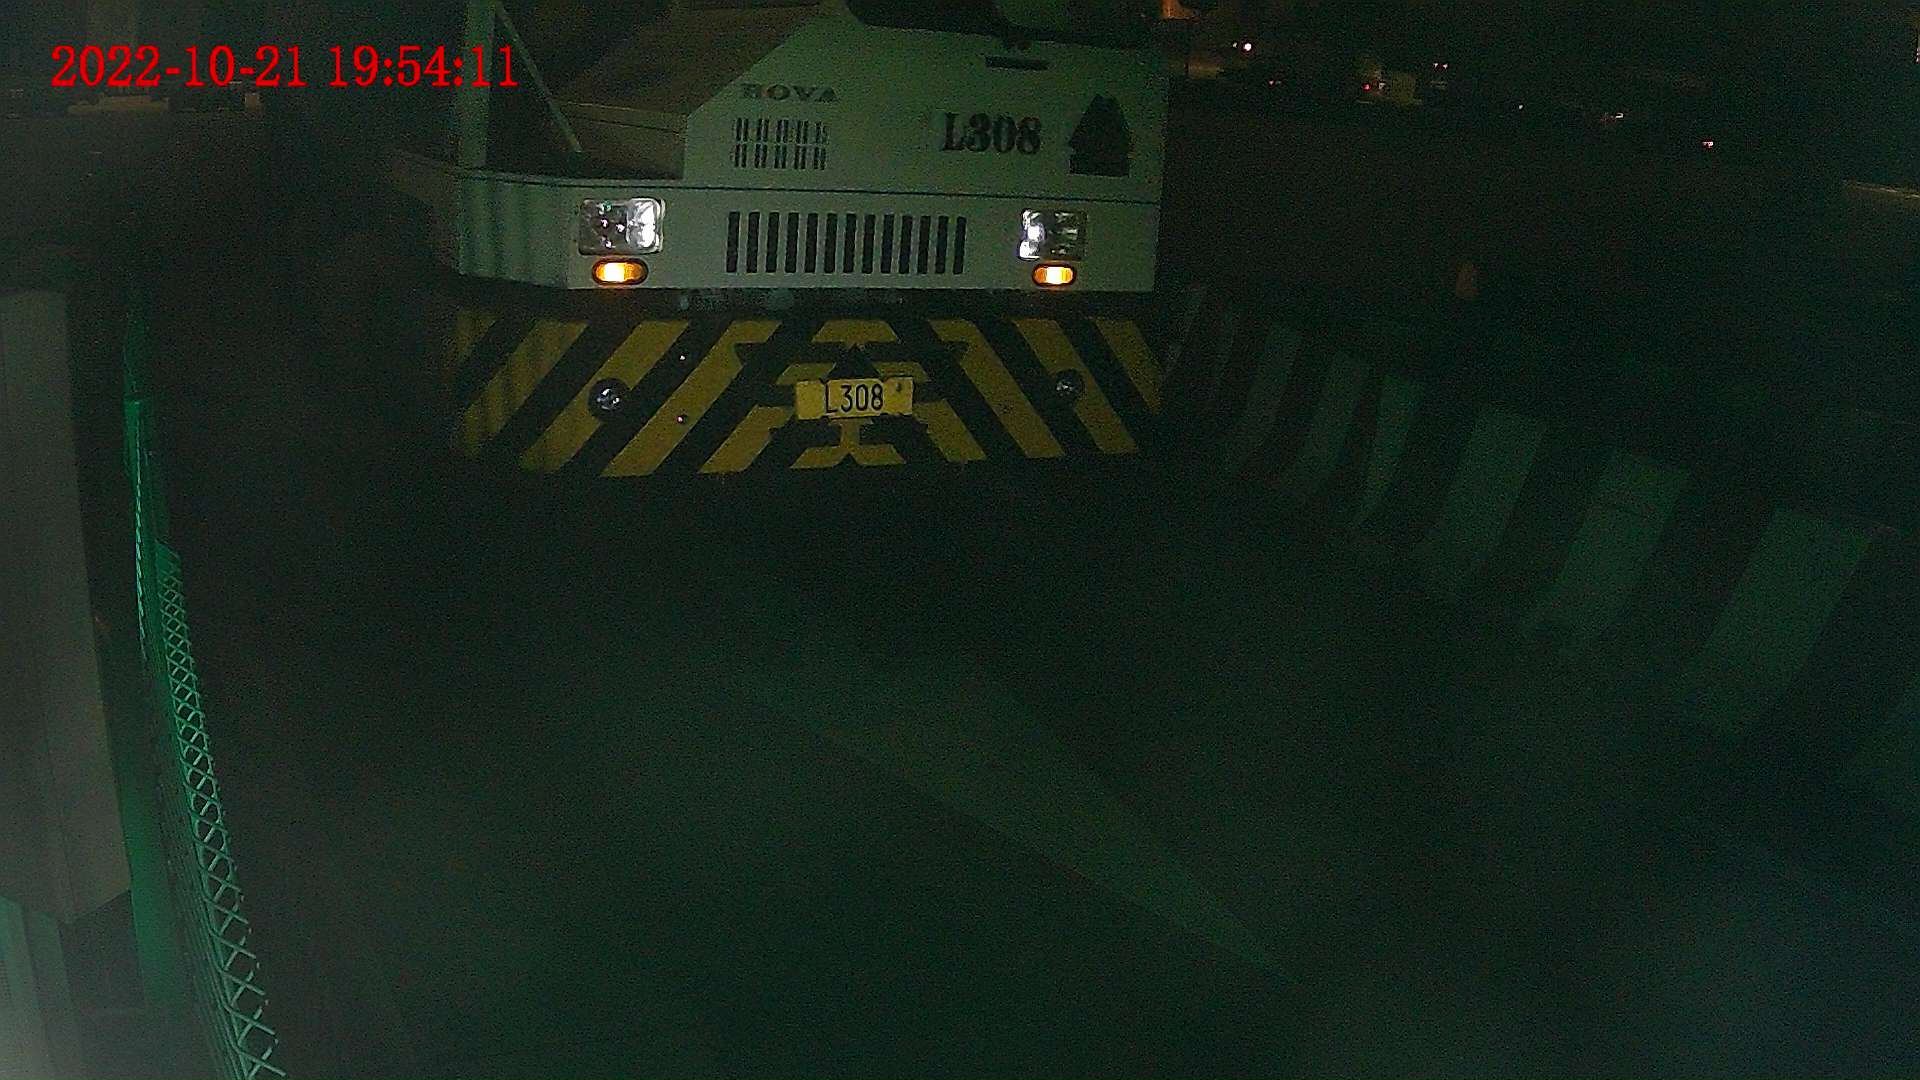head: (375, 1, 1168, 494)
plate: (789, 378, 912, 417)
